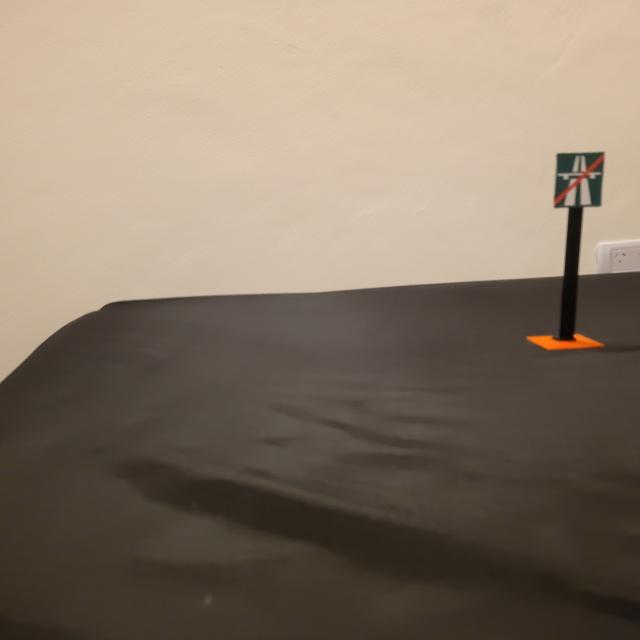highway_exit: (552, 151, 606, 209)
